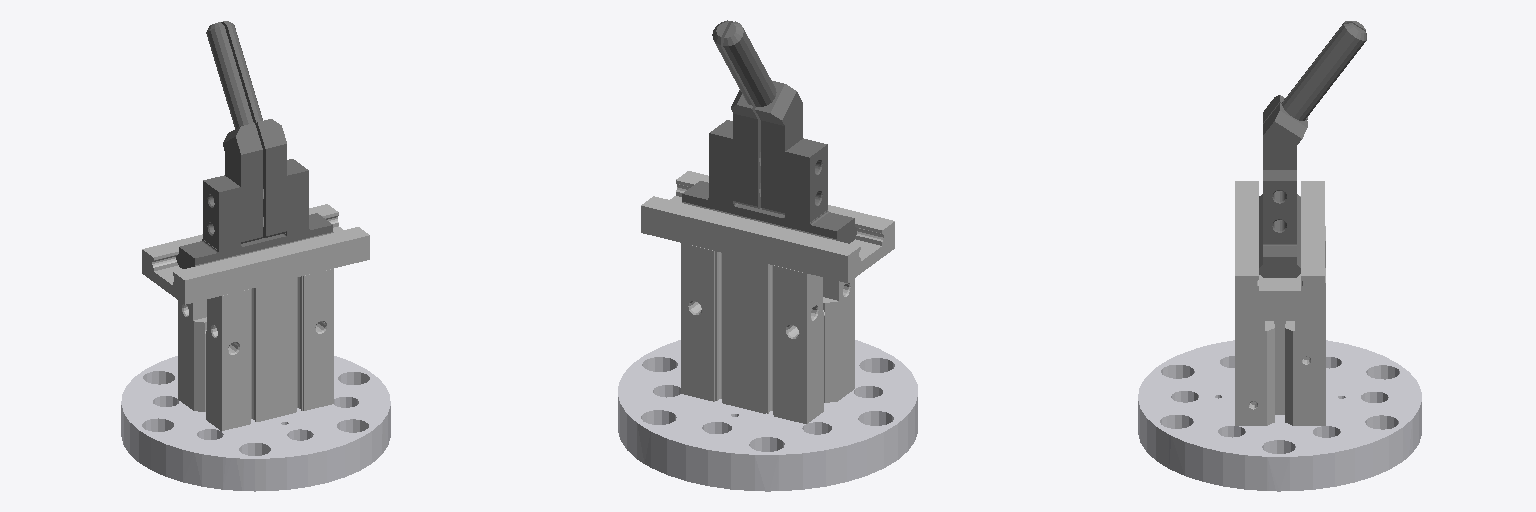
The robot description file, URDF, robot "hg_hand":
<?xml version="1.0" encoding="utf-8"?>
<!-- This URDF was automatically created by SolidWorks to URDF Exporter! Originally created by [author] ([email redacted]) 
     Commit Version: 1.6.0-1-g15f4949  Build Version: 1.6.7594.29634
     For more information, please see http://wiki.ros.org/sw_urdf_exporter -->
<robot
  name="hg_hand">
  <link
    name="gripper_base">
    <inertial>
      <origin
        xyz="1.38777878078145E-17 -1.38777878078145E-17 0.00977580182490007"
        rpy="0 0 0" />
      <mass
        value="0.843628368629898" />
      <inertia
        ixx="0.00120327643820624"
        ixy="4.86329604486156E-06"
        ixz="-8.65561792975488E-21"
        iyy="0.00119756103253184"
        iyz="1.6940658945086E-20"
        izz="0.0023447386782326" />
    </inertial>
    <visual>
      <origin
        xyz="0 0 0"
        rpy="0 0 0" />
      <geometry>
        <mesh
          filename="package://hg_hand/meshes/gripper_base.STL" />
      </geometry>
      <material
        name="">
        <color
          rgba="0.866666666666667 0.866666666666667 0.890196078431372 1" />
      </material>
    </visual>
    <collision>
      <origin
        xyz="0 0 0"
        rpy="0 0 0" />
      <geometry>
        <mesh
          filename="package://hg_hand/meshes/gripper_base.STL" />
      </geometry>
    </collision>
  </link>
  <link
    name="gripper">
    <inertial>
      <origin
        xyz="8.20983856959084E-05 0.0601380978869662 -0.158470071744372"
        rpy="0 0 0" />
      <mass
        value="3.07410312551789E-13" />
      <inertia
        ixx="3.11509632045995E-16"
        ixy="4.98688491243828E-19"
        ixz="1.47605702557251E-19"
        iyy="3.57914037027407E-16"
        iyz="8.63589324742051E-17"
        izz="2.94960420845548E-16" />
    </inertial>
    <visual>
      <origin
        xyz="0 0 0"
        rpy="0 0 0" />
      <geometry>
        <mesh
          filename="package://hg_hand/meshes/gripper.STL" />
      </geometry>
      <material
        name="">
        <color
          rgba="0.752941176470588 0.752941176470588 0.752941176470588 1" />
      </material>
    </visual>
    <collision>
      <origin
        xyz="0 0 0"
        rpy="0 0 0" />
      <geometry>
        <mesh
          filename="package://hg_hand/meshes/gripper.STL" />
      </geometry>
    </collision>
  </link>
  <joint
    name="gripper"
    type="fixed">
    <origin
      xyz="0 0.041628 0.2355"
      rpy="-0.61087 0 0" />
    <parent
      link="gripper_base" />
    <child
      link="gripper" />
    <axis
      xyz="0 0 0" />
  </joint>
  <link
    name="finger1">
    <inertial>
      <origin
        xyz="-0.0286174438271279 0.00766914135821372 0.0163030997564393"
        rpy="0 0 0" />
      <mass
        value="0.136847072523441" />
      <inertia
        ixx="0.000137531297377428"
        ixy="-2.87247981292304E-06"
        ixz="-6.77437980169973E-06"
        iyy="0.000116059899006358"
        iyz="-4.07993447332026E-05"
        izz="2.5970097144952E-05" />
    </inertial>
    <visual>
      <origin
        xyz="0 0 0"
        rpy="0 0 0" />
      <geometry>
        <mesh
          filename="package://hg_hand/meshes/finger1.STL" />
      </geometry>
      <material
        name="">
        <color
          rgba="0.501960784313725 0.501960784313725 0.501960784313725 1" />
      </material>
    </visual>
    <collision>
      <origin
        xyz="0 0 0"
        rpy="0 0 0" />
      <geometry>
        <mesh
          filename="package://hg_hand/meshes/finger1.STL" />
      </geometry>
    </collision>
  </link>
  <joint
    name="finger1"
    type="prismatic">
    <origin
      xyz="0.0218 0.0096577 -0.08663"
      rpy="0.61087 0 0" />
    <parent
      link="gripper" />
    <child
      link="finger1" />
    <axis
      xyz="-1 0 0" />
    <limit
      lower="0"
      upper="0.04"
      effort="20"
      velocity="1" />
  </joint>
  <link
    name="finger2">
    <inertial>
      <origin
        xyz="0.0288174438271278 0.0076691413582138 0.0163030997564394"
        rpy="0 0 0" />
      <mass
        value="0.136847072523441" />
      <inertia
        ixx="0.000137531297377428"
        ixy="2.87247981292307E-06"
        ixz="6.77437980169973E-06"
        iyy="0.000116059899006358"
        iyz="-4.0799344733203E-05"
        izz="2.59700971449523E-05" />
    </inertial>
    <visual>
      <origin
        xyz="0 0 0"
        rpy="0 0 0" />
      <geometry>
        <mesh
          filename="package://hg_hand/meshes/finger2.STL" />
      </geometry>
      <material
        name="">
        <color
          rgba="0.501960784313725 0.501960784313725 0.501960784313725 1" />
      </material>
    </visual>
    <collision>
      <origin
        xyz="0 0 0"
        rpy="0 0 0" />
      <geometry>
        <mesh
          filename="package://hg_hand/meshes/finger2.STL" />
      </geometry>
    </collision>
  </link>
  <joint
    name="finger2"
    type="prismatic">
    <origin
      xyz="-0.022 0.0096577 -0.08663"
      rpy="0.61087 0 0" />
    <parent
      link="gripper" />
    <child
      link="finger2" />
    <axis
      xyz="1 0 0" />
    <limit
      lower="0"
      upper="0.04"
      effort="20"
      velocity="1" />
  </joint>
</robot>

--- What the picture shows (computed from the rendered views, not written in the file) ---
The picture shows the robot from 3 angles, left to right: view 1: azimuth 30°, elevation 25°; view 2: azimuth 150°, elevation 25°; view 3: azimuth 270°, elevation 25°; orthographic projection.
Model hg_hand with 4 links and 3 joints (2 prismatic, 1 fixed), rooted at gripper_base, posed every joint at zero.
Visible links, largest first — view 1: gripper, gripper_base, finger1, finger2; view 2: gripper, gripper_base, finger1, finger2; view 3: gripper_base, gripper, finger2, finger1.
Boxes of the visible links, left/top/right/bottom form: gripper: left=142, top=204, right=369, bottom=430; gripper_base: left=121, top=356, right=390, bottom=491; finger1: left=176, top=22, right=263, bottom=268; finger2: left=221, top=21, right=333, bottom=249; gripper: left=641, top=171, right=894, bottom=423; gripper_base: left=618, top=340, right=917, bottom=491; finger1: left=723, top=21, right=856, bottom=243; finger2: left=682, top=20, right=761, bottom=221; gripper_base: left=1138, top=340, right=1421, bottom=491; gripper: left=1235, top=181, right=1325, bottom=425; finger2: left=1259, top=23, right=1366, bottom=277; finger1: left=1259, top=21, right=1366, bottom=231.
Size in the robot's own frame: 0.15 by 0.1499 by 0.2381 metres.
Meshes: 4 distinct files referenced, 4 mesh visuals loaded (4 binary STL).